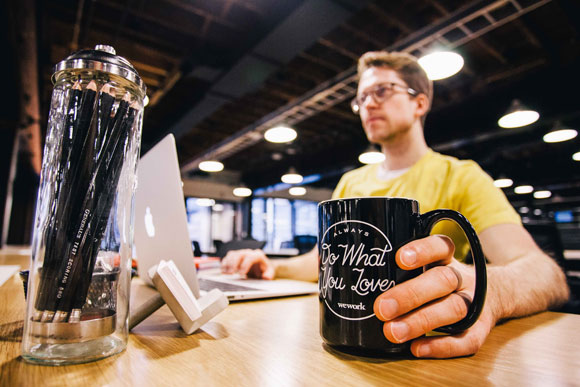wework: (336, 299, 366, 312)
